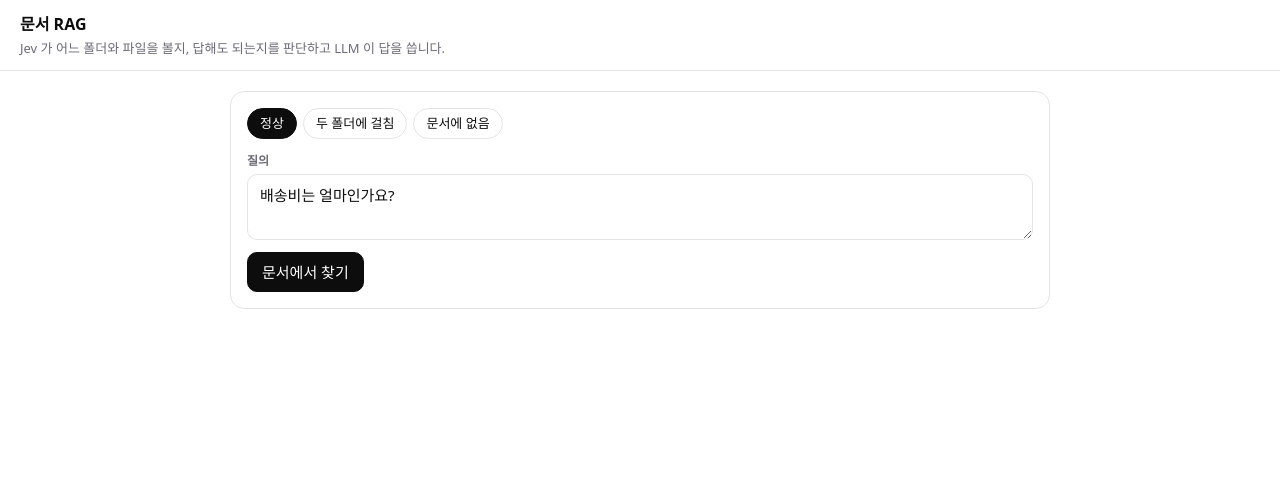
Test: RagTab › should show a fallback line for an unknown status
Click the button "문서에서 찾기".
click(305, 272)  # box [247,252,364,292]
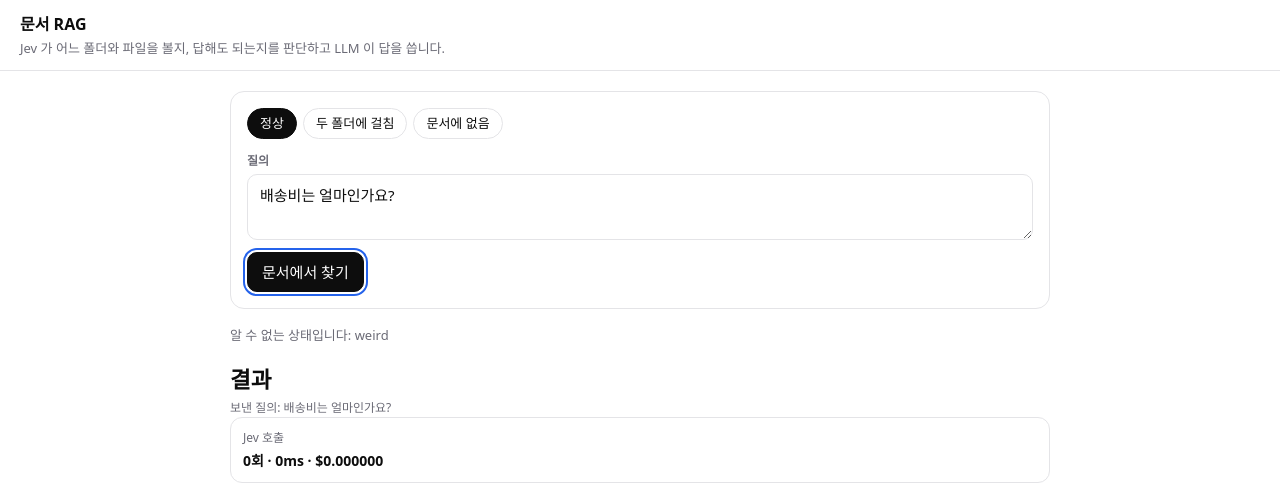
Expected: the text "알 수 없는 상태입니다: weird" is shown, [230,326,389,344]
